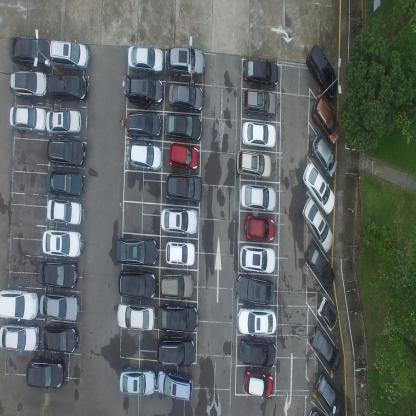car: (302, 196, 334, 254), (306, 42, 338, 100), (303, 161, 335, 216), (309, 324, 341, 372), (305, 240, 335, 290), (312, 96, 340, 146), (122, 74, 164, 106), (166, 44, 206, 77), (9, 36, 50, 68), (46, 73, 89, 103), (310, 134, 338, 180), (26, 356, 66, 388), (115, 236, 157, 266), (157, 303, 199, 333), (117, 268, 157, 299), (0, 323, 40, 354), (49, 40, 90, 70), (235, 306, 276, 336), (157, 366, 193, 400), (166, 173, 203, 206), (160, 206, 198, 238), (41, 322, 79, 354), (38, 260, 78, 290), (40, 292, 80, 322), (242, 57, 279, 89), (158, 334, 196, 365), (236, 273, 274, 304), (0, 289, 38, 320), (116, 301, 155, 331), (42, 228, 83, 256), (164, 113, 203, 142), (47, 138, 86, 167), (168, 82, 204, 113), (119, 365, 156, 395), (126, 43, 164, 72), (10, 70, 48, 99), (314, 372, 340, 414), (239, 337, 275, 367), (125, 112, 162, 141), (239, 243, 276, 272), (240, 182, 275, 212), (127, 142, 162, 172), (9, 104, 46, 132), (46, 170, 84, 197), (237, 148, 271, 178), (243, 87, 278, 116), (47, 198, 82, 226), (161, 268, 194, 297), (242, 121, 277, 148), (46, 109, 82, 135), (244, 367, 274, 398), (166, 237, 196, 266), (168, 143, 199, 171), (244, 213, 276, 239), (318, 295, 338, 331)
